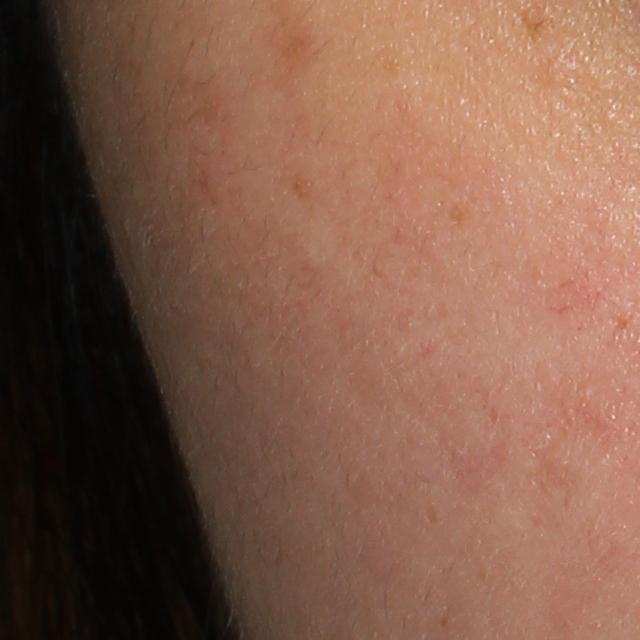melasma: (513, 1, 555, 49)
